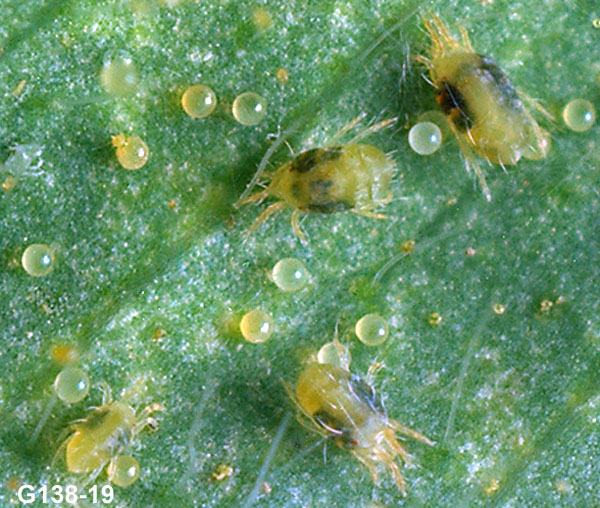Mites: (423, 17, 542, 199), (253, 140, 414, 237), (297, 366, 407, 503), (54, 379, 174, 470)
